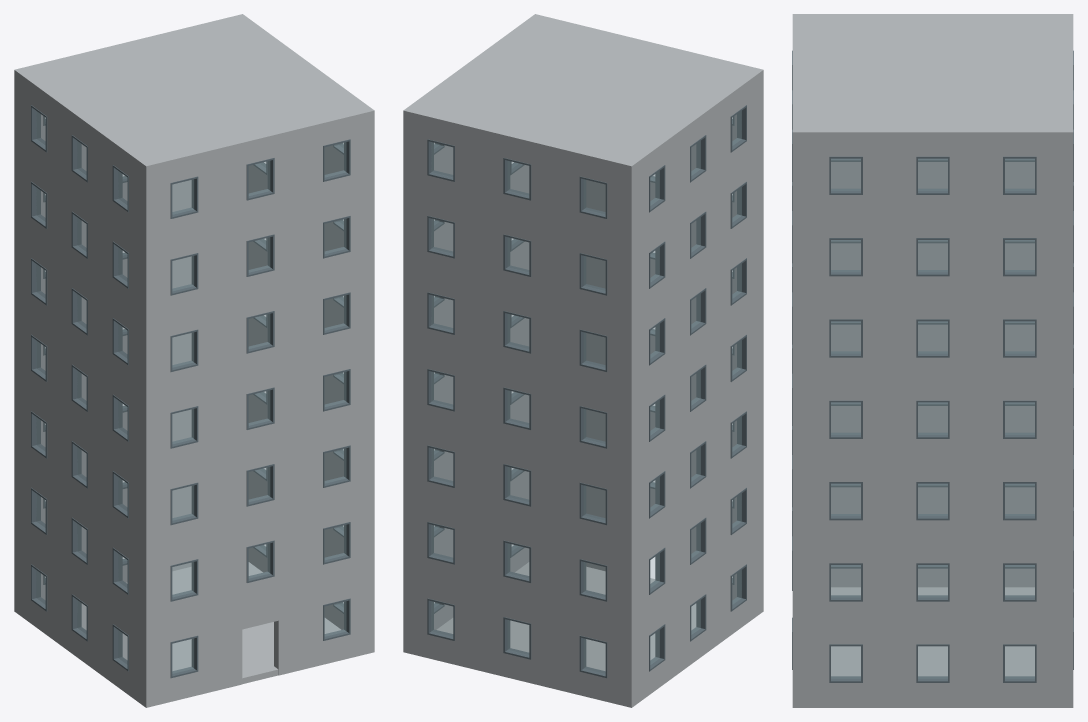
The model's file is block_7_lod1.glb.
The picture shows the model from 3 angles, left to right: view 1: azimuth 30°, elevation 25°; view 2: azimuth 150°, elevation 25°; view 3: azimuth 270°, elevation 25°; orthographic projection. The views are drawn at different scales.
Visible parts, largest first — view 1: Wall_0 baked, Wall_3 baked, Ceiling baked, Wall_1 baked, Wall_2 baked, Floor baked, Glazing.002 baked, Glazing.016 baked, Glazing.019 baked, Glazing.005 baked, Glazing.008 baked, Glazing.011 baked (+14 smaller); view 2: Wall_1 baked, Wall_3 baked, Ceiling baked, Wall_0 baked, Wall_2 baked, Floor baked, Glazing.035 baked, Glazing.038 baked, Glazing.028 baked, Glazing.031 baked, Glazing.034 baked, Glazing.020 baked (+15 smaller); view 3: Wall_2 baked, Ceiling baked, Wall_3 baked, Wall_0 baked, Wall_1 baked, Floor baked, Glazing.041 baked, Glazing.042 baked, Glazing.043 baked, Glazing.044 baked, Glazing.045 baked, Glazing.046 baked (+15 smaller).
Boxes of the visible parts, x1,y1,x2,y2 form: Wall_0 baked: (141,116,374,707); Wall_3 baked: (19,79,141,704); Ceiling baked: (14,14,374,172); Wall_1 baked: (14,76,191,614); Wall_2 baked: (248,145,343,629); Floor baked: (81,562,340,683); Glazing.002 baked: (172,562,193,596); Glazing.016 baked: (325,219,346,253); Glazing.019 baked: (325,142,346,176); Glazing.005 baked: (172,485,193,520); Glazing.008 baked: (172,409,193,443); Glazing.011 baked: (172,332,193,367); Wall_1 baked: (403,116,636,707); Wall_3 baked: (636,79,758,704); Ceiling baked: (403,14,763,172); Wall_0 baked: (586,76,763,614); Wall_2 baked: (434,145,529,629); Floor baked: (437,562,696,670); Glazing.035 baked: (431,219,452,253); Glazing.038 baked: (431,142,452,176); Glazing.028 baked: (584,485,605,520); Glazing.031 baked: (584,409,605,443); Glazing.034 baked: (584,332,605,367); Glazing.020 baked: (431,601,452,636); Wall_2 baked: (802,139,1063,707); Ceiling baked: (792,14,1073,138); Wall_3 baked: (831,162,1034,587); Wall_0 baked: (792,139,802,707); Wall_1 baked: (1063,139,1073,707); Floor baked: (831,587,1034,676); Glazing.041 baked: (831,646,860,678); Glazing.042 baked: (918,646,947,678); Glazing.043 baked: (1005,646,1034,678); Glazing.044 baked: (831,565,860,597); Glazing.045 baked: (918,565,947,597); Glazing.046 baked: (1005,565,1034,597).
Size of the model in its own units: 10.05 by 22.65 by 10.05.
